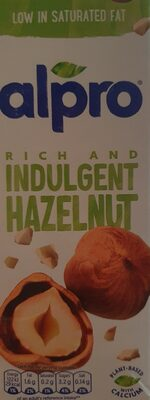Rich and indulgent Hazelnut: (7, 20, 142, 380)
